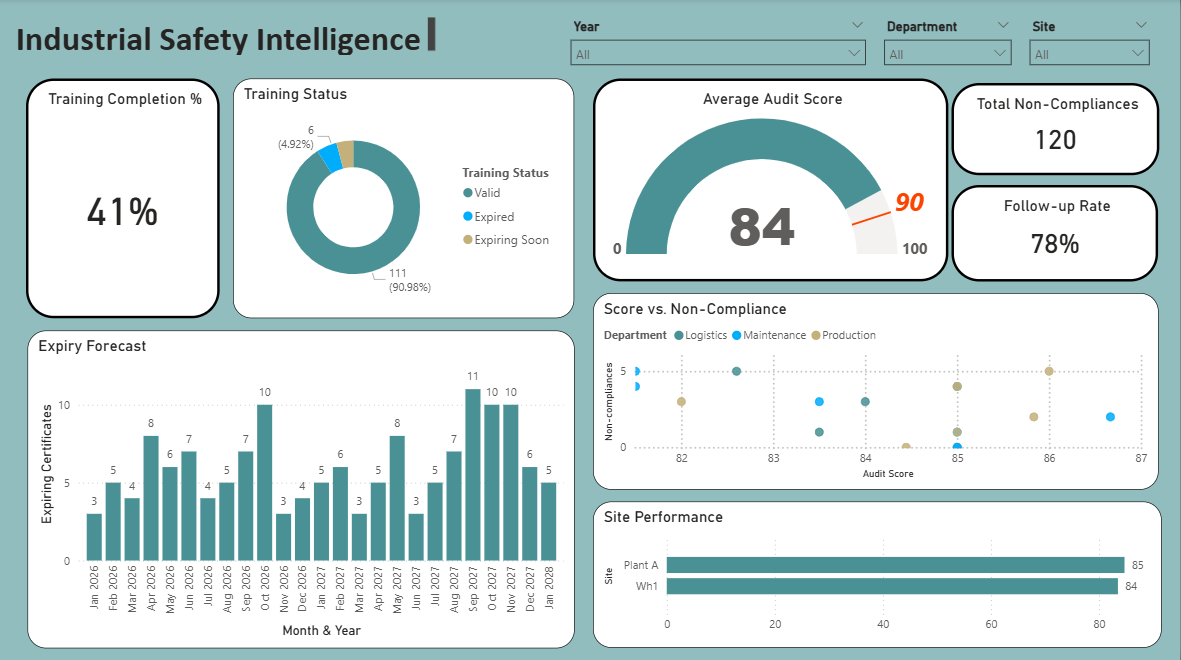

What the dashboard file says about the page in this screenshot:
{"tool":"powerbi","page":{"name":"Training & Audit Compliances","canvas":[1280,720],"ordinal":2},"visuals":[{"type":"donutChart","title":"Training Status","fields":{"Category":["fact_training.Training Status"],"Y":["Count(fact_training.employee_id)"]},"box":[253.3,86.7,370,260],"z":0},{"type":"slicer","fields":{"Values":["dim_date.Year"]},"box":[610,16,340,70],"z":1000},{"type":"slicer","fields":{"Values":["dim_department.dept_name"]},"box":[950,16,158,70],"z":2000},{"type":"slicer","fields":{"Values":["dim_site.site_location"]},"box":[1108,16,150,70],"z":3000},{"type":"card","title":"Training Completion %","fields":{"Values":["Measure_table.Training Completion %"]},"box":[30,86.7,210,260],"z":4000},{"type":"columnChart","title":"Expiry Forecast","fields":{"Category":["dim_date.Month Year"],"Y":["Measure_table.Expiring Certificates"]},"box":[30.2,358.7,593.7,344.4],"z":5000},{"type":"gauge","title":"Average Audit Score","fields":{"Y":["Measure_table.Avg Audit Score"]},"box":[643.3,86.7,385,220],"z":6000},{"type":"clusteredBarChart","title":"Site Performance","fields":{"Category":["dim_site.site_location"],"Y":["Measure_table.Avg Audit Score"]},"box":[643.3,545,616.7,158.3],"z":7000},{"type":"card","title":"Total Non-Compliances","fields":{"Values":["Sum(fact_audits.non_compliance_count)"]},"box":[1033.3,91.7,225,100],"z":8000},{"type":"card","title":"Follow-up Rate","fields":{"Values":["Measure_table.Follow-up Rate"]},"box":[1033.6,201.9,224.3,104.7],"z":9000},{"type":"scatterChart","title":"Score vs. Non-Compliance","fields":{"X":["Measure_table.Avg Audit Score"],"Y":["fact_audits.non_compliance_count"],"Series":["dim_department.dept_name"]},"box":[643.3,318.3,613.3,213.3],"z":10000}]}

Visuals, with their boxes in screenshot pixels (x1, y1, x2, y2), scaled from the page's 1280x720 canvas onto the 1181x660 screenshot:
"Training Status" donutChart: bbox=(234, 79, 575, 318)
slicer - dim_date.Year: bbox=(563, 15, 877, 79)
slicer - dim_department.dept_name: bbox=(877, 15, 1022, 79)
slicer - dim_site.site_location: bbox=(1022, 15, 1161, 79)
"Training Completion %" card: bbox=(28, 79, 221, 318)
"Expiry Forecast" columnChart: bbox=(28, 329, 576, 645)
"Average Audit Score" gauge: bbox=(594, 79, 949, 281)
"Site Performance" clusteredBarChart: bbox=(594, 500, 1163, 645)
"Total Non-Compliances" card: bbox=(953, 84, 1161, 176)
"Follow-up Rate" card: bbox=(954, 185, 1161, 281)
"Score vs. Non-Compliance" scatterChart: bbox=(594, 292, 1159, 487)
